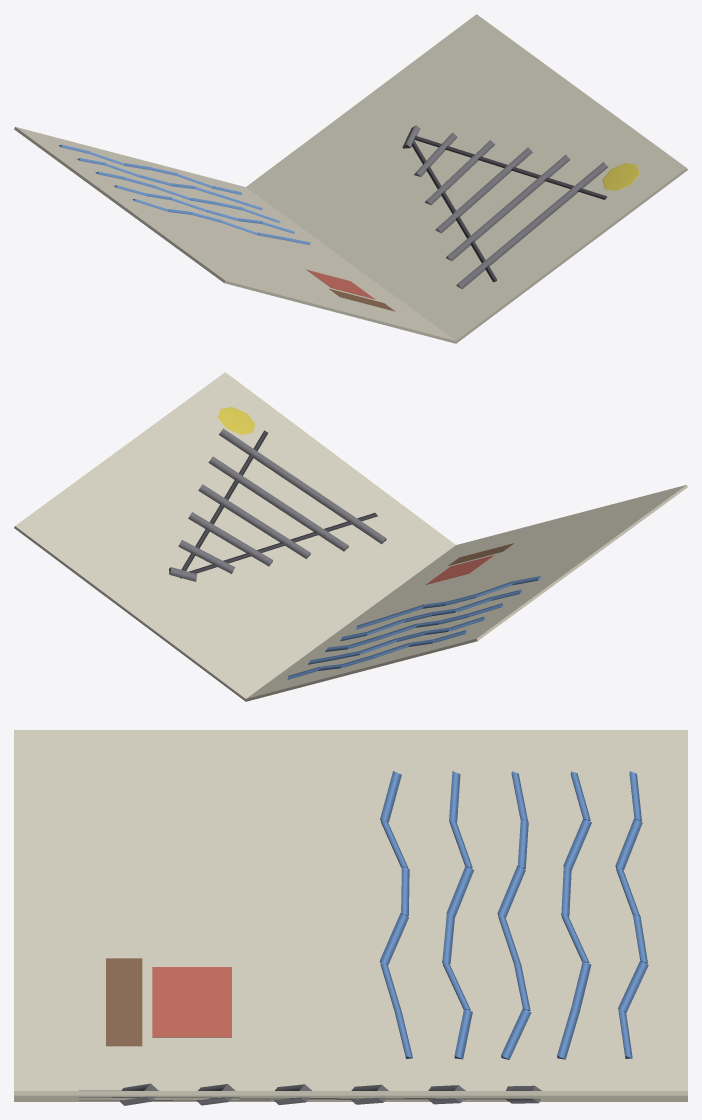
The model's file is storm_drawing_a.glb.
3 views of the same model, one above another, from view 1: azimuth 30°, elevation 25°; view 2: azimuth 150°, elevation 25°; view 3: azimuth 270°, elevation 25° (orthographic). The views are drawn at different scales.
Visible parts, largest first — view 1: body; view 2: body; view 3: body.
Part boxes in pixels (x1,y1,x2,y2): body: (14,14,687,343); body: (14,372,687,701); body: (14,730,687,1105).
Size of the model in its own units: 0.3782 by 0.0931 by 0.297.
